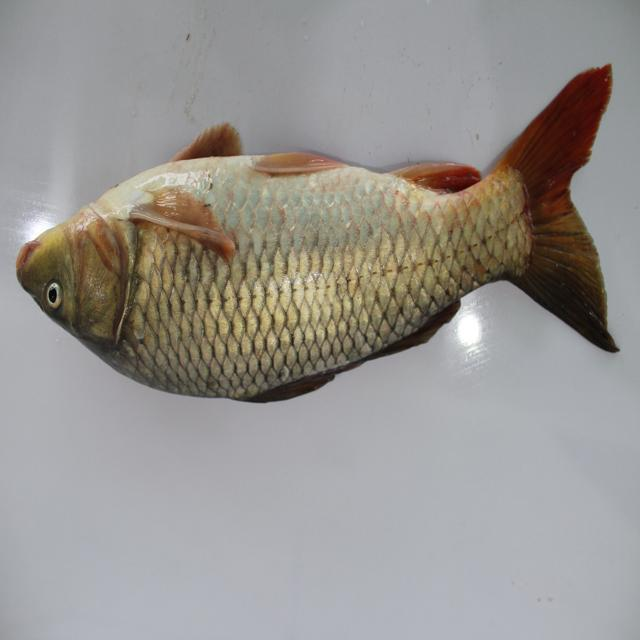CommonCarp: (19, 60, 631, 408)
